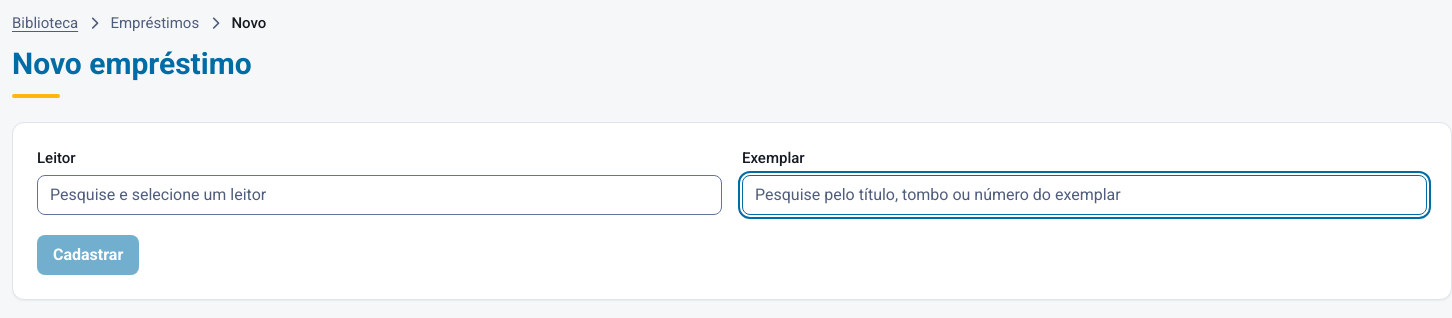
Test: novo empréstimo autocomplete › finds a copy by ACAO E REACAO
Step 1. Type "ACAO E REACAO" into the dropdown with id "exemplar" → point(1084, 195), box x1=742 y1=175 x2=1427 y2=215
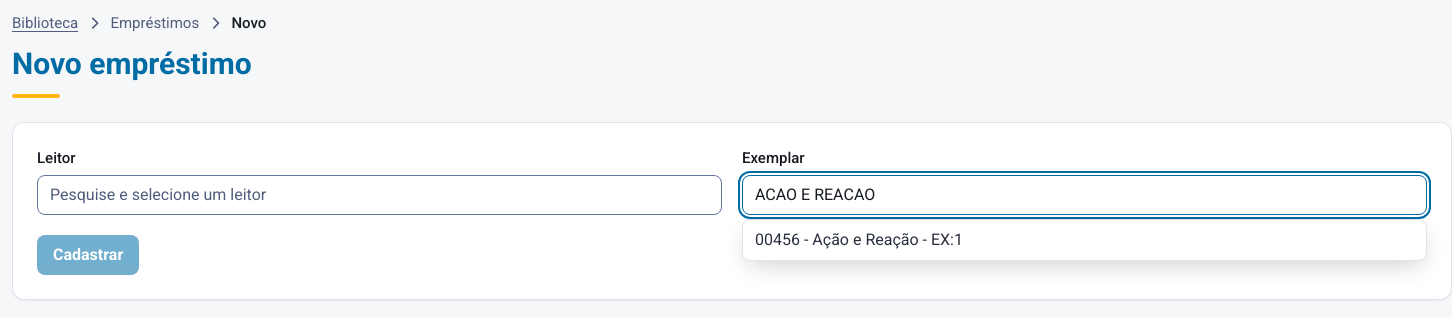
Step 2. Click the option "00456 - Ação e Reação - EX:1" → point(859, 240), box x1=743 y1=220 x2=1426 y2=260
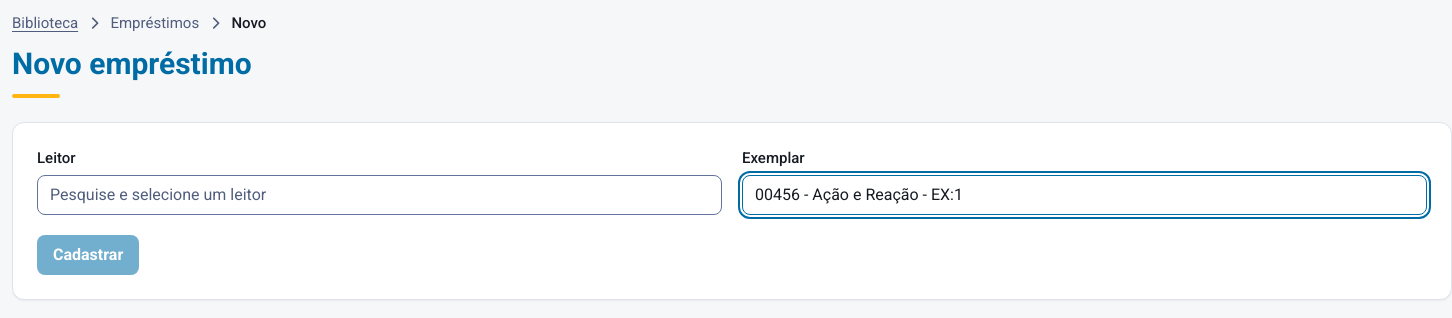
Expected: the dropdown with id "exemplar" holds "00456 - Ação e Reação - EX:1", x1=742 y1=175 x2=1427 y2=215
